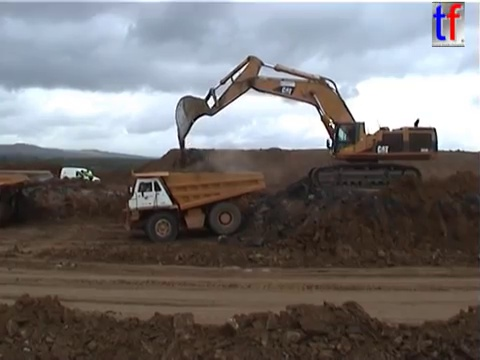excavator: (172, 53, 441, 196)
truck: (120, 167, 267, 244), (1, 166, 55, 227)
worker: (83, 166, 95, 187), (77, 167, 86, 186)
